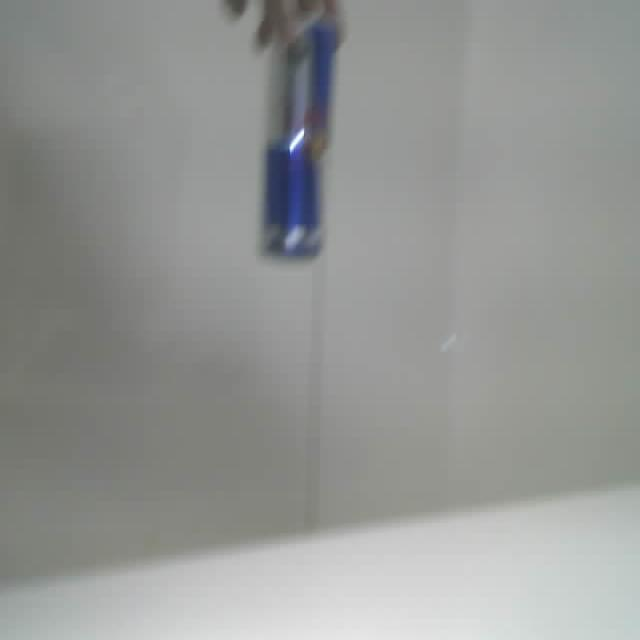redbull can: (261, 18, 336, 257)
